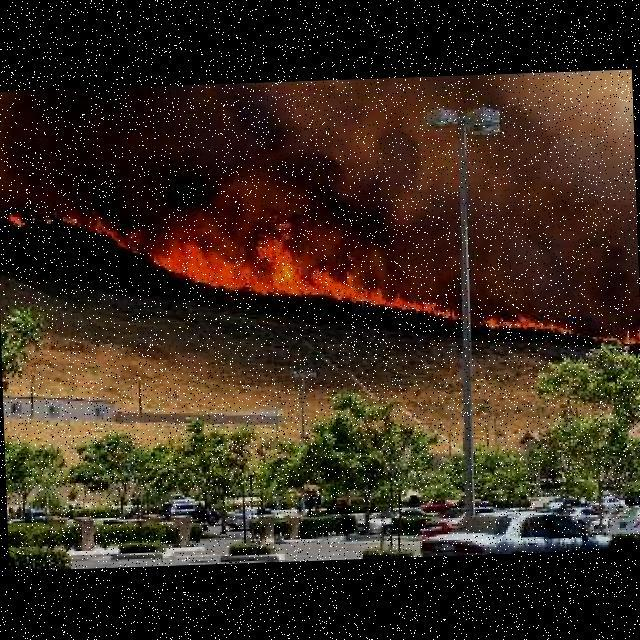Fire: (157, 220, 460, 332), (6, 205, 136, 257), (486, 309, 639, 348)
